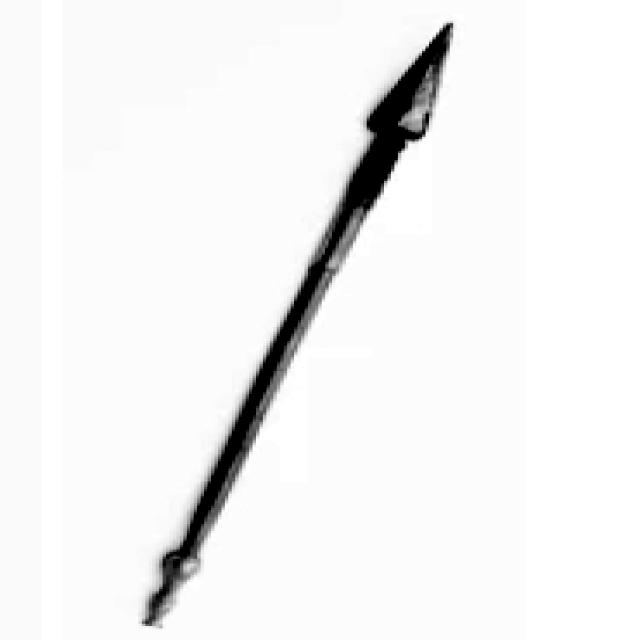spear: (35, 15, 488, 634)
